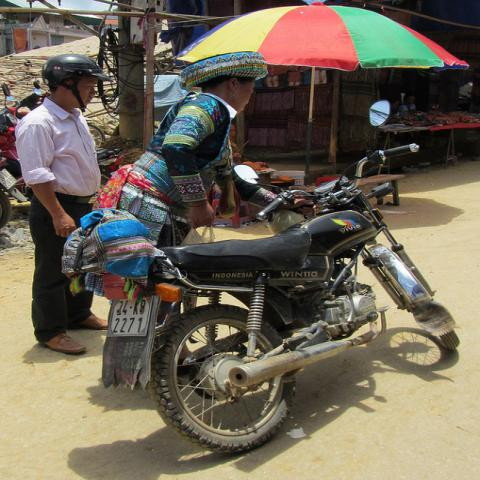motorcycle: (96, 99, 465, 452)
